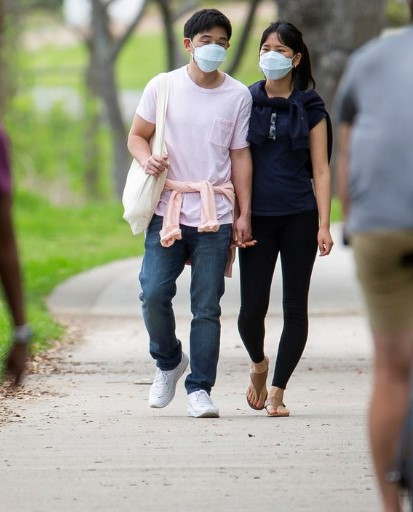face_with_mask: (182, 14, 231, 77), (257, 26, 305, 83)
